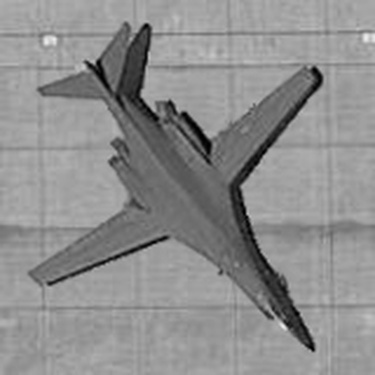airplane: (16, 12, 333, 356)
